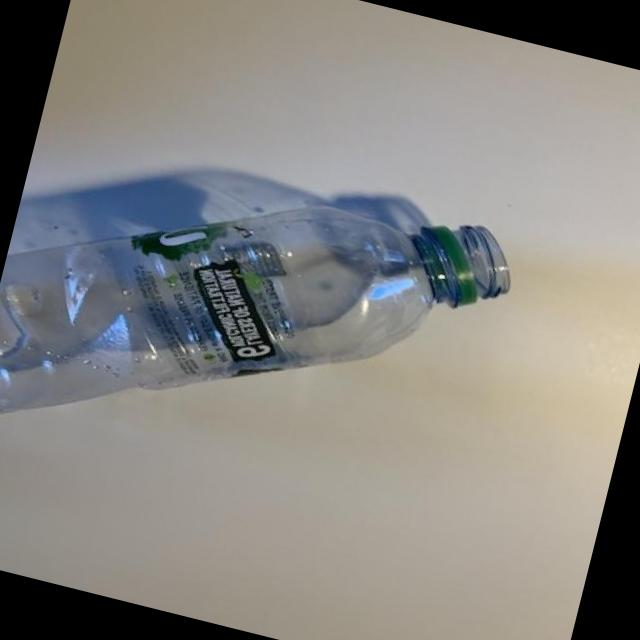plastic_bottle: (0, 115, 523, 540)
